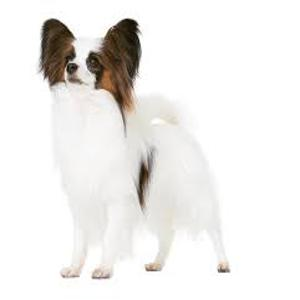yell: (40, 18, 230, 279)
